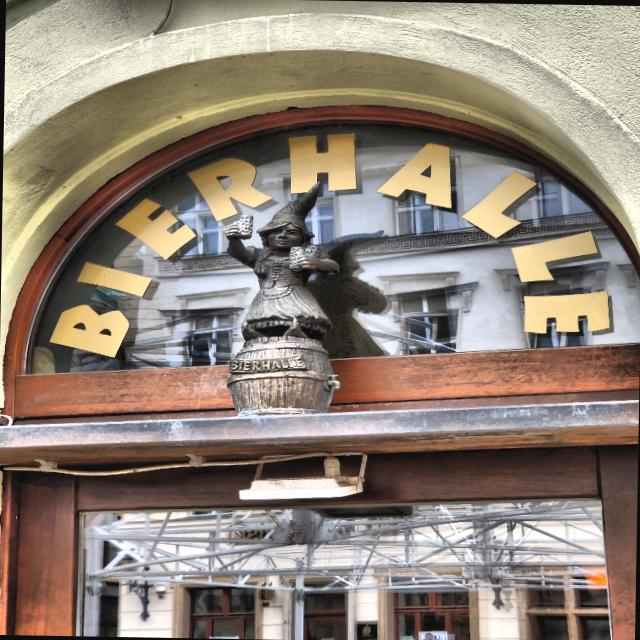Bawarka: (225, 184, 339, 416)
